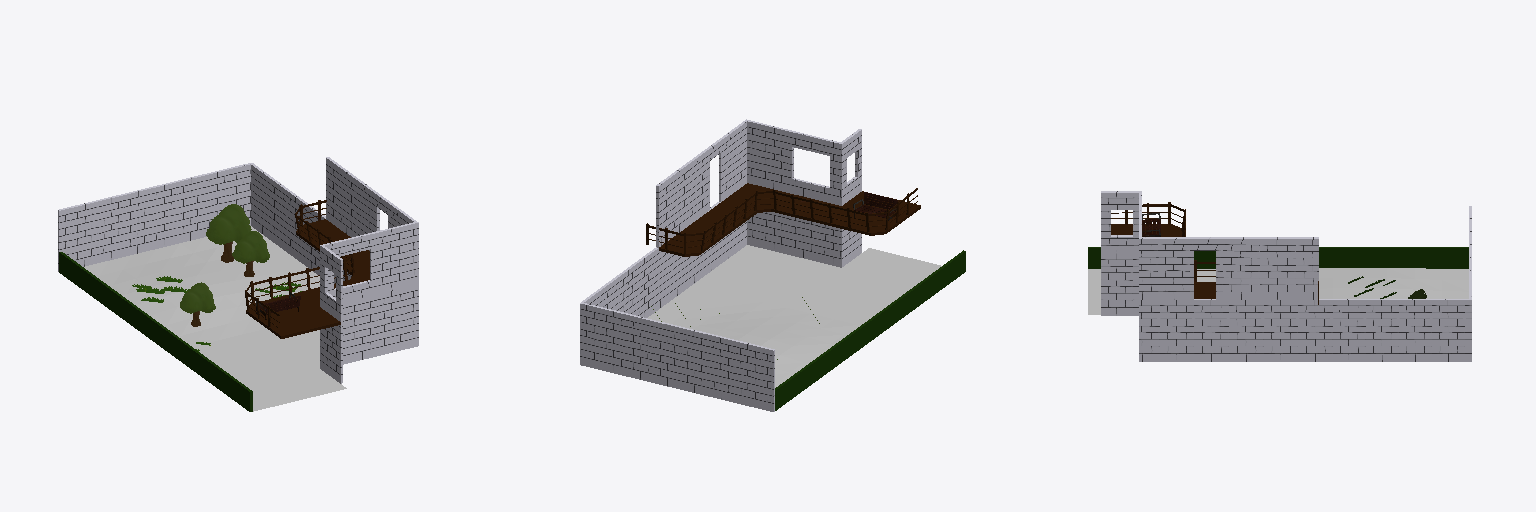
3 renders of one model, left to right at view 1: azimuth 30°, elevation 25°; view 2: azimuth 150°, elevation 25°; view 3: azimuth 270°, elevation 25°, orthographic.
Visible parts, largest first — view 1: Plane.004, grass_Plane, Plane.003, Plane.001_Plane.020, balcony_floor_Plane.001, balcony_fence_Plane.002, tree.001_Plane.018, tree_Plane.017, tree.002_Plane.019; view 2: Plane.004, grass_Plane, Plane.003, balcony_floor_Plane.001, Plane.001_Plane.020, balcony_fence_Plane.002, bench_Cube.001; view 3: Plane.004, Plane.003, grass_Plane, Plane.001_Plane.020, balcony_floor_Plane.001, balcony_fence_Plane.002.
Part boxes in pixels (x1,y1,x2,y2): Plane.004: (58,163,418,383); grass_Plane: (84,226,346,411); Plane.003: (320,157,418,321); Plane.001_Plane.020: (59,252,252,411); balcony_floor_Plane.001: (246,219,369,338); balcony_fence_Plane.002: (245,200,354,328); tree.001_Plane.018: (206,204,251,262); tree_Plane.017: (232,231,269,276); tree.002_Plane.019: (180,282,215,326); Plane.004: (580,202,861,411); grass_Plane: (648,245,941,387); Plane.003: (656,119,861,247); balcony_floor_Plane.001: (659,183,920,256); Plane.001_Plane.020: (775,250,965,410); balcony_fence_Plane.002: (646,188,917,253); bench_Cube.001: (853,192,897,220); Plane.004: (1101,206,1471,361); Plane.003: (1101,191,1318,299); grass_Plane: (1088,268,1468,314); Plane.001_Plane.020: (1088,247,1468,268); balcony_floor_Plane.001: (1111,224,1215,298); balcony_fence_Plane.002: (1111,202,1318,304).
Bounding box in the file's own units: 8.65 × 5.05 × 14.12.
Materials: 8 (7 with a texture image).